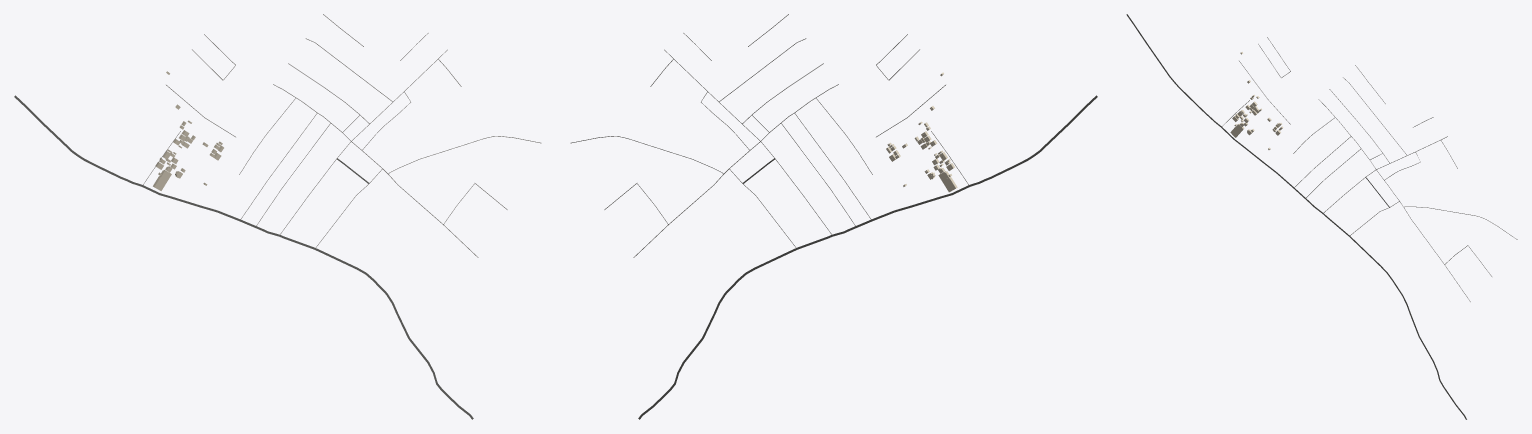
Rendered from historic-palestine-01_18_3428_3127.glb.
3 views of the same model, side by side, from view 1: azimuth 30°, elevation 25°; view 2: azimuth 150°, elevation 25°; view 3: azimuth 330°, elevation 25° (orthographic). The views are drawn at different scales.
Visible parts, largest first — view 1: Road طه حسين; view 2: Road طه حسين; view 3: Road طه حسين.
Part boxes in pixels (left/top/right/bottom): Road طه حسين: left=14, top=95, right=325, bottom=254; Road طه حسين: left=786, top=95, right=1097, bottom=254; Road طه حسين: left=1126, top=14, right=1356, bottom=243.
Bounding box in the file's own units: 1428 × 1167 × 8.7.
